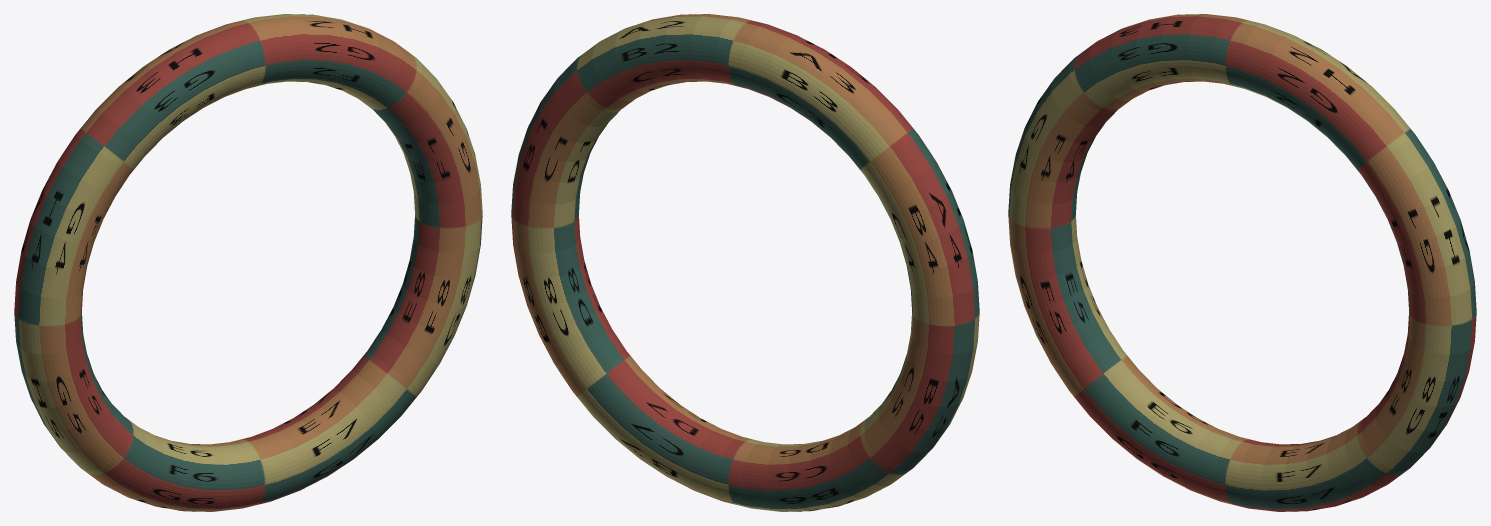
Rendered from texture_torus_R11_r2.glb.
3 renders of one model, left to right at view 1: azimuth 30°, elevation 25°; view 2: azimuth 150°, elevation 25°; view 3: azimuth 330°, elevation 25°, orthographic.
Parts seen in each view (by area): view 1: world; view 2: world; view 3: world.
Boxes of the visible parts, box(x1,y1,x2,y2) form: world: box(14, 14, 482, 511); world: box(511, 14, 979, 511); world: box(1008, 14, 1476, 511).
Bounding box in the file's own units: 19.87 × 19.83 × 2.53.
1 material, 1 textured.
